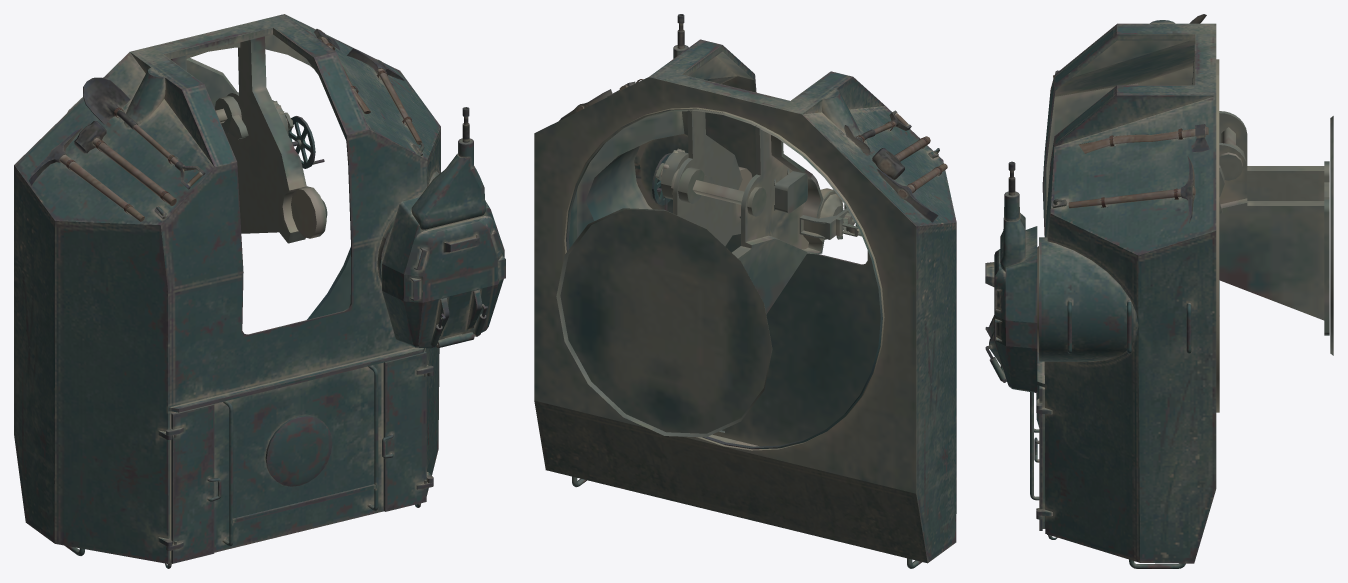
File: Turret_02.glb
The picture shows the model from 3 angles, left to right: view 1: azimuth 30°, elevation 25°; view 2: azimuth 150°, elevation 25°; view 3: azimuth 270°, elevation 25°; orthographic projection. The views are drawn at different scales.
Parts seen in each view (by area): view 1: set_0_group_0; view 2: set_0_group_0; view 3: set_0_group_0.
Boxes of the visible parts, x1=… form: set_0_group_0: x1=14, y1=14, x2=505, y2=568; set_0_group_0: x1=534, y1=14, x2=956, y2=568; set_0_group_0: x1=985, y1=14, x2=1333, y2=568.
Size of the model in its own units: 3.11 by 3.35 by 2.45.
Materials: 1 (1 with a texture image).
